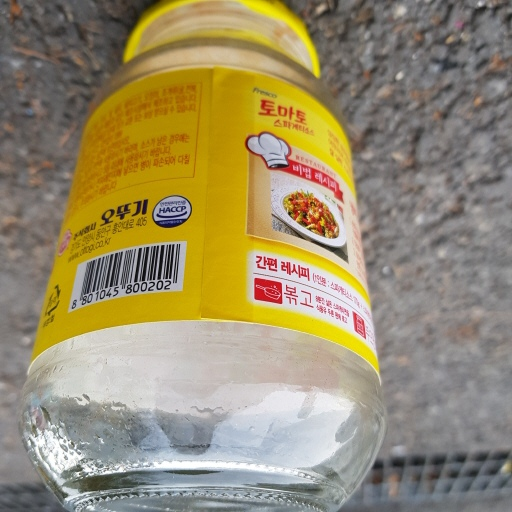Glass_5: (24, 1, 386, 512)
